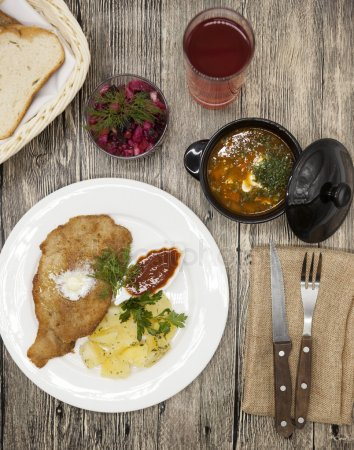boiled potatoes: (103, 311, 143, 372)
slice of bread: (2, 29, 52, 106)
